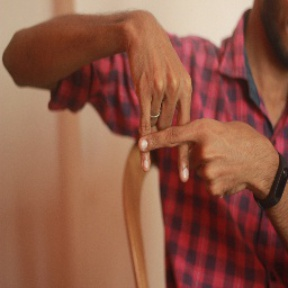H: (117, 73, 217, 197)
